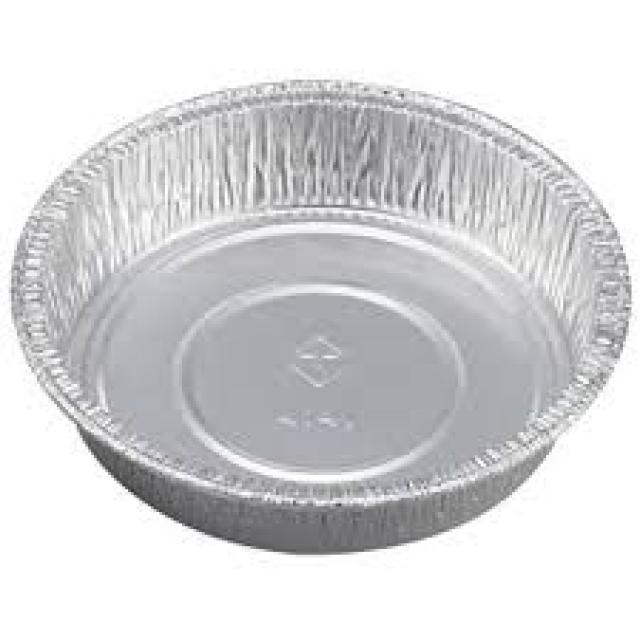kim_loai: (9, 80, 634, 558)
